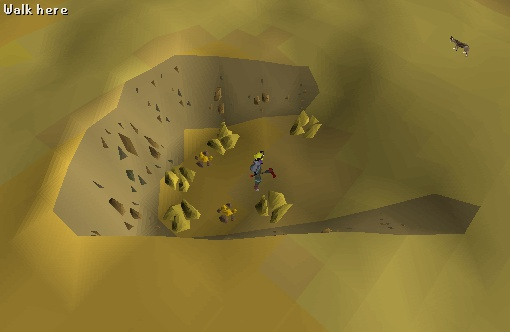gold: (249, 184, 302, 227), (154, 196, 208, 237), (281, 106, 329, 144)
